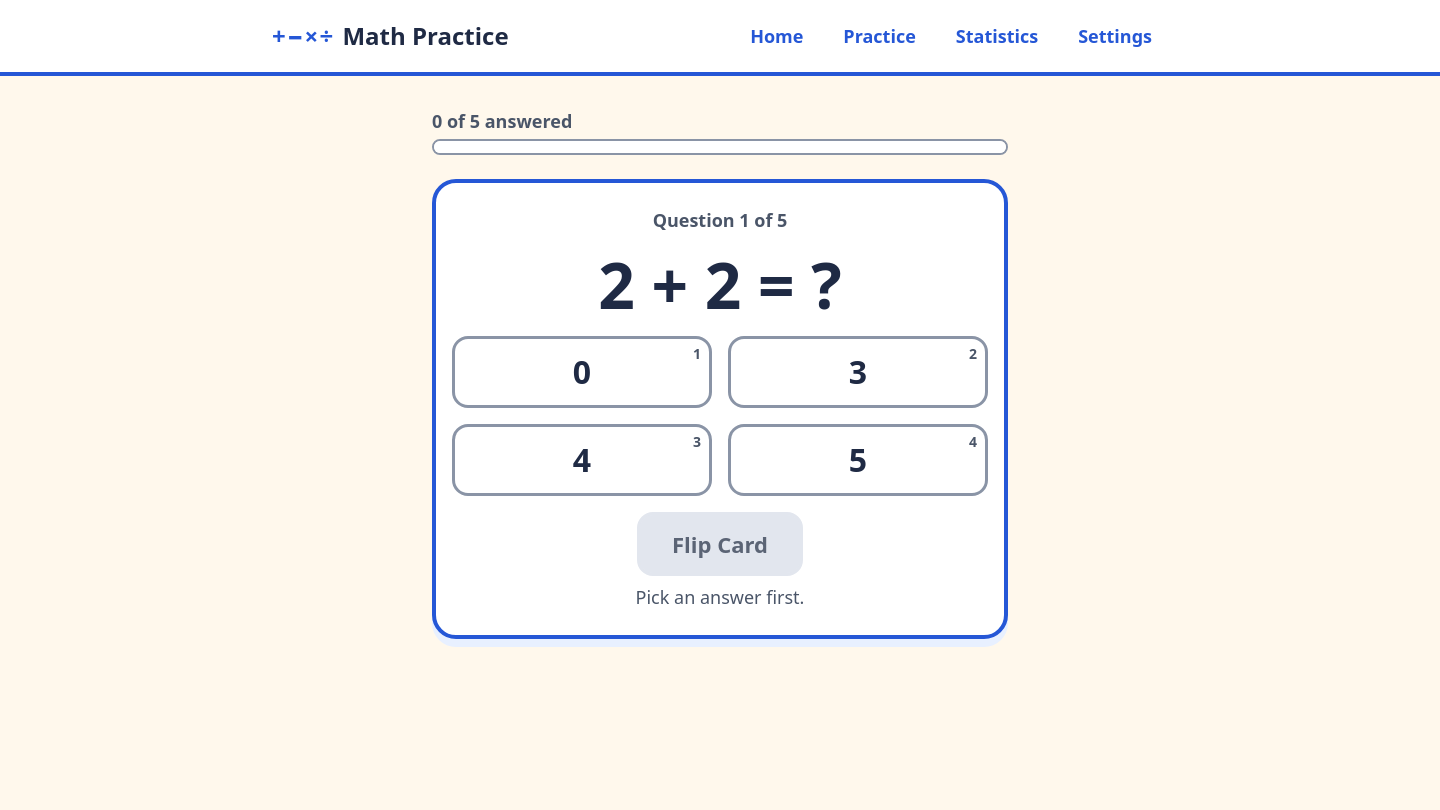
recording results › counts one attempt per result and moves to a fresh card
Click the button "4 3": (582, 460) [452,424,712,496]
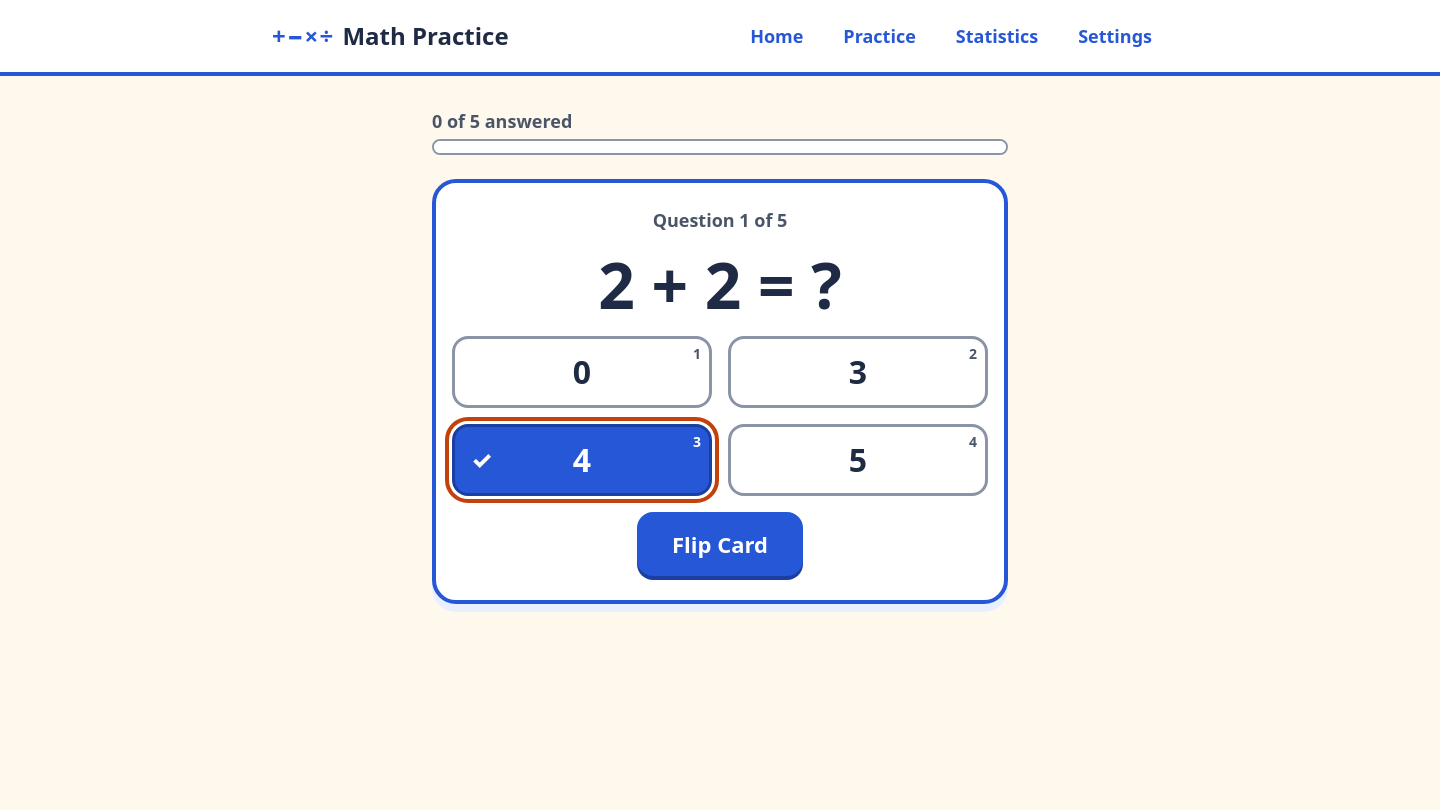
Click the button "Flip Card": (720, 544) [637,512,803,576]
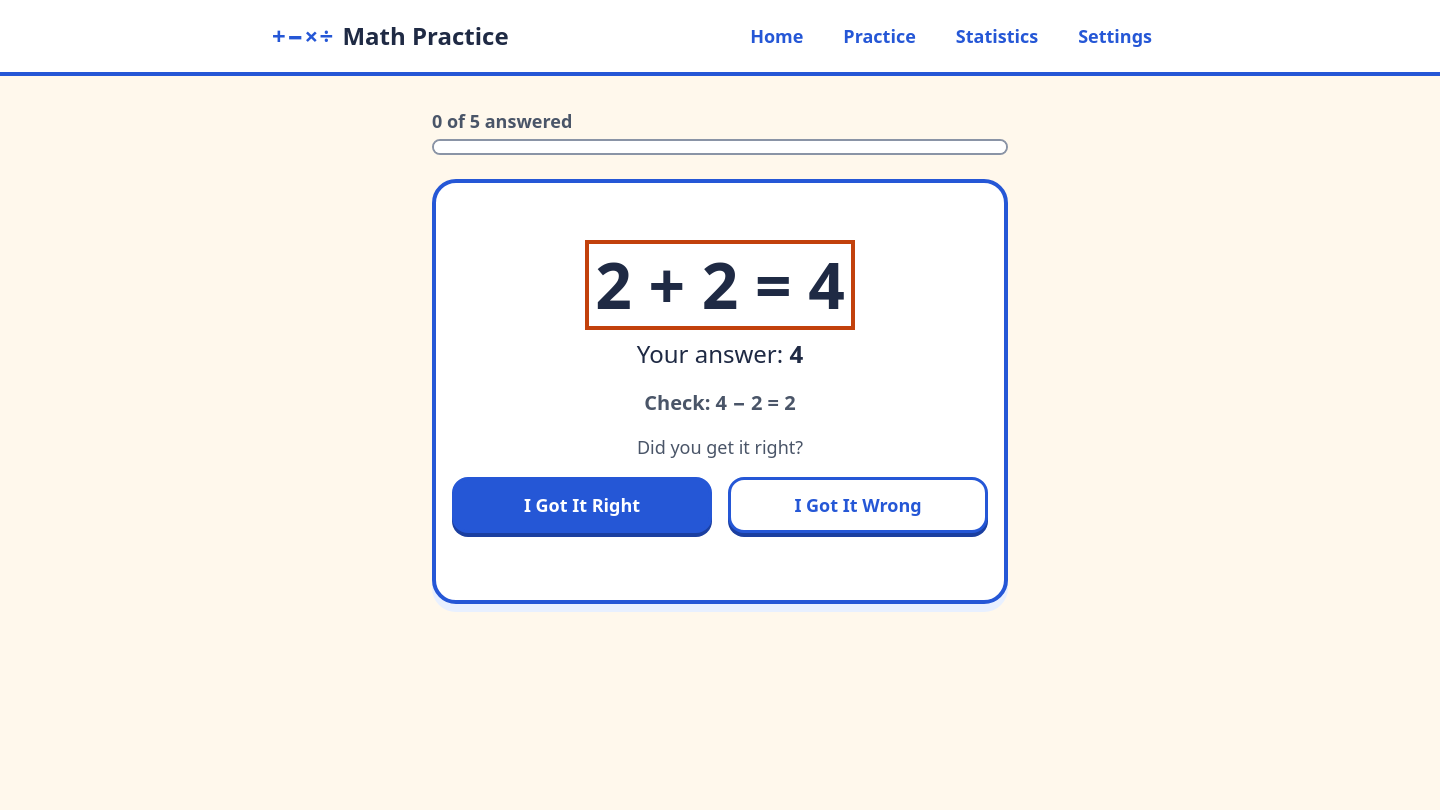
Click the button "I Got It Right": (582, 505) [452,477,712,533]
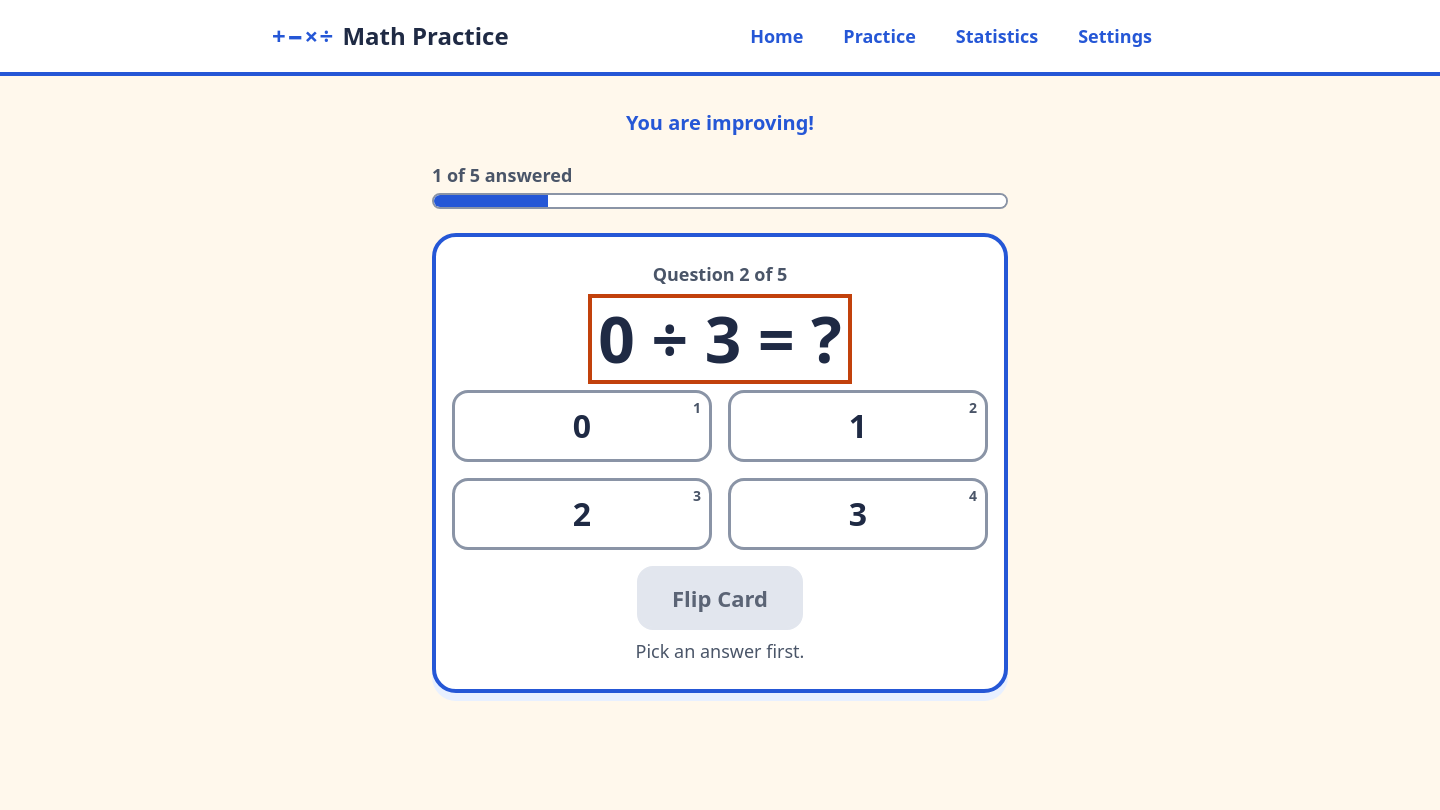
Check: the label with class "session-progress__label" reads "1 of 5 answered", box [432,163,572,187]
Check: the text "Question 2 of 5" is shown, box [653,261,787,288]
Check: the button "Flip Card" is disabled, box [637,566,803,630]
